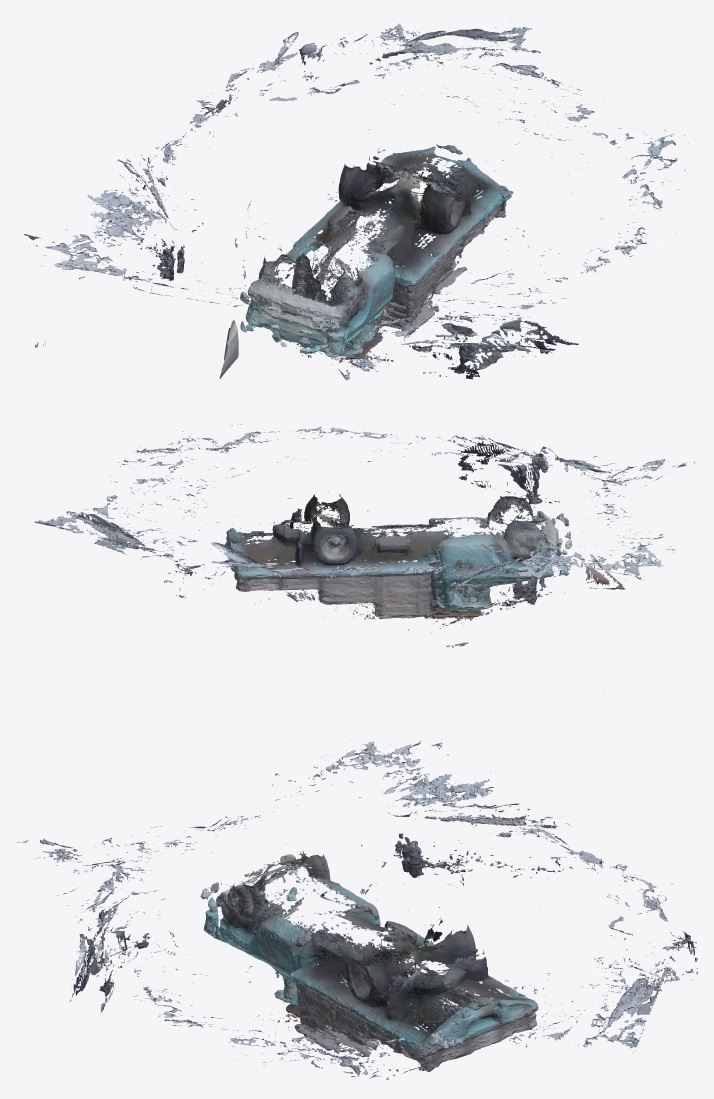
File: tnt_truck.glb
3 views of the same model, one above another, from view 1: azimuth 30°, elevation 25°; view 2: azimuth 150°, elevation 25°; view 3: azimuth 270°, elevation 25° (orthographic). The views are drawn at different scales.
Parts seen in each view (by area): view 1: world; view 2: world; view 3: world.
Part boxes in pixels (bbox=[...]): world: bbox=[24, 21, 688, 380]; world: bbox=[34, 424, 694, 694]; world: bbox=[17, 736, 697, 1080].
Bounding box in the file's own units: 5.69 × 1.41 × 4.87.
